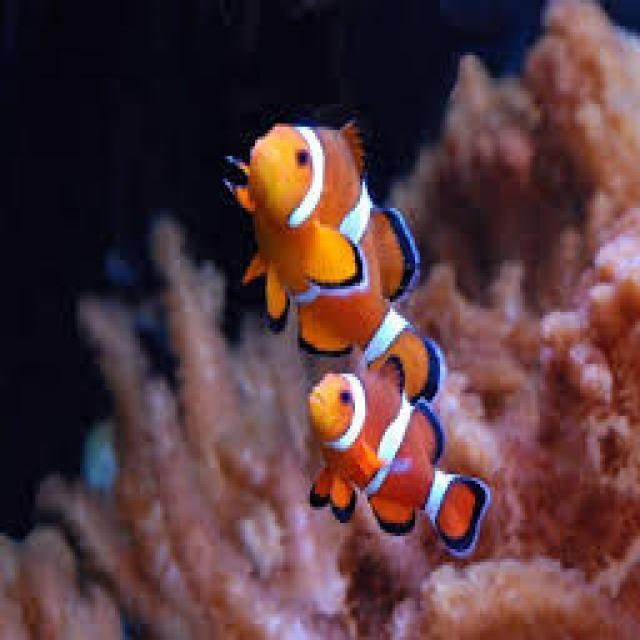ClownFish: (234, 120, 443, 384), (303, 367, 490, 554)
